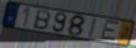1: (21, 6, 31, 29)
8: (67, 14, 87, 37)
9: (51, 12, 68, 34)
B: (33, 9, 52, 31)
E: (99, 19, 121, 42)
I: (87, 17, 99, 39)
